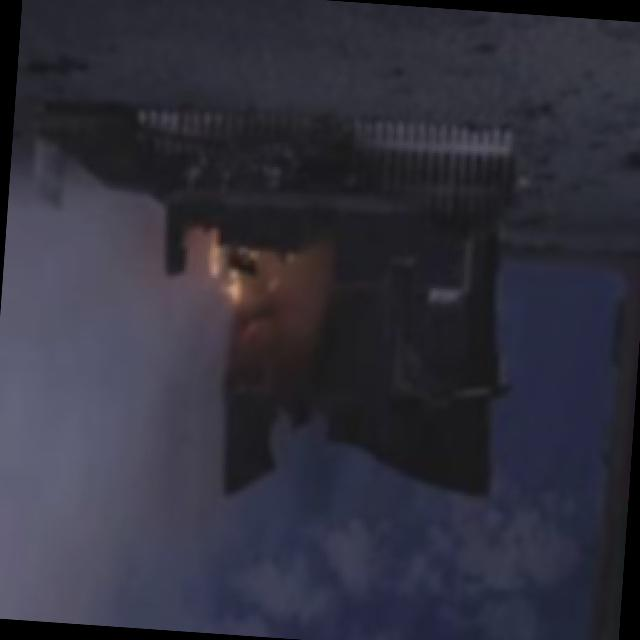fire: (183, 229, 270, 336)
smoke: (0, 309, 234, 633)
